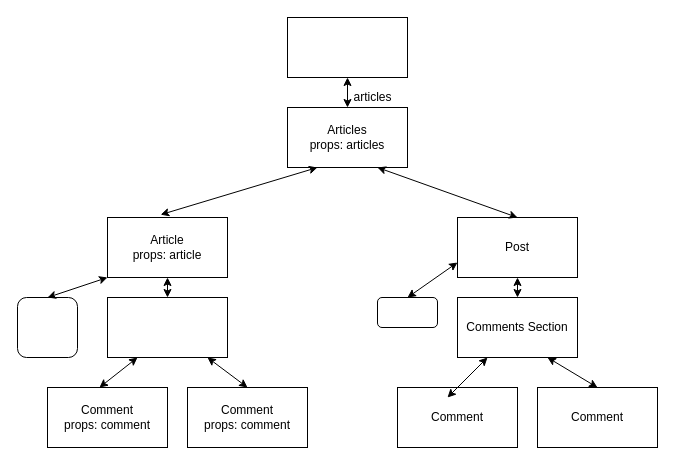
This 675x465 diagram has some shape labels left out. The shapes that lost their labels are listed below. From the top down, each one's box as (x1, y1, x2, y2) in pixels, then its label:
(286, 16, 408, 78): App state: articles
(16, 296, 78, 358): Like button props: article
(106, 296, 228, 358): Comments Section props: comments
(376, 296, 438, 328): Like button
